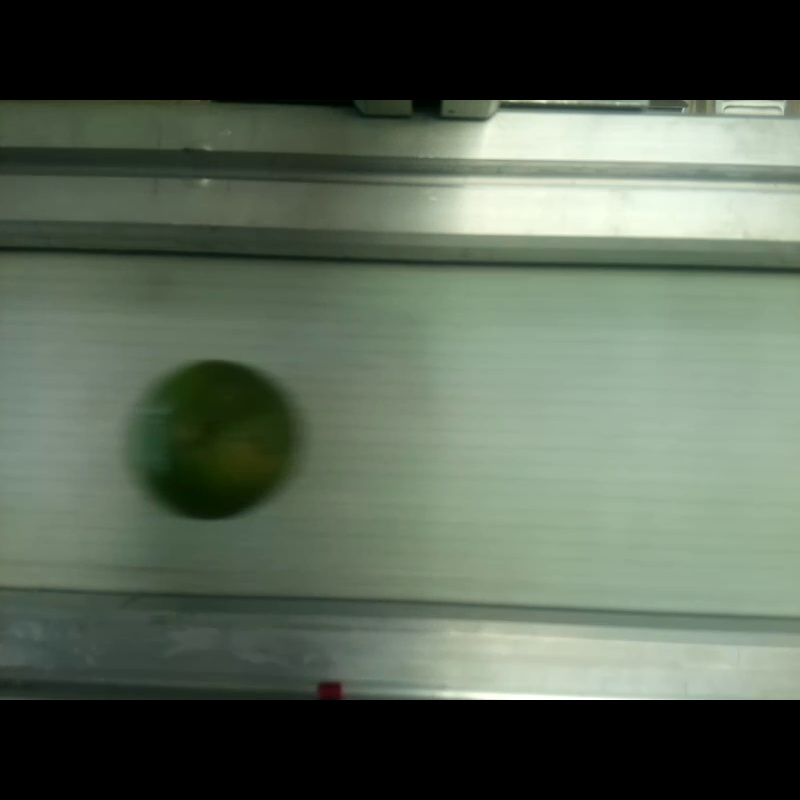lime: (135, 362, 296, 520)
